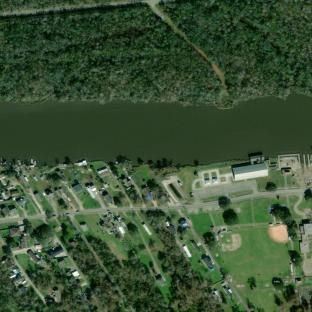Floresta: (0, 6, 221, 104), (161, 0, 312, 104), (144, 209, 218, 312), (87, 235, 169, 312), (70, 239, 120, 312), (38, 251, 96, 312), (0, 264, 45, 312), (272, 204, 297, 239), (33, 223, 53, 246), (222, 208, 238, 225)
